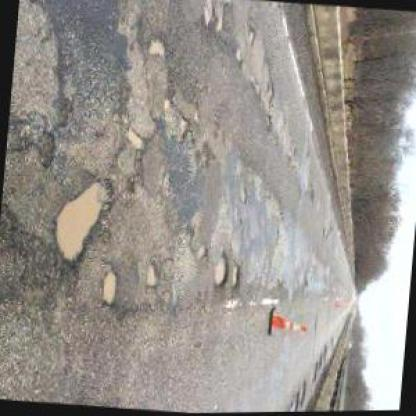pothole: (50, 176, 114, 269), (4, 119, 57, 172), (255, 68, 276, 130), (99, 269, 120, 309), (209, 254, 229, 291), (122, 126, 146, 151), (144, 36, 166, 60), (143, 262, 159, 291), (201, 0, 215, 31), (228, 264, 243, 291), (176, 117, 190, 144), (237, 184, 248, 208), (215, 8, 225, 34), (244, 26, 255, 46), (161, 97, 173, 115), (232, 47, 242, 67)
